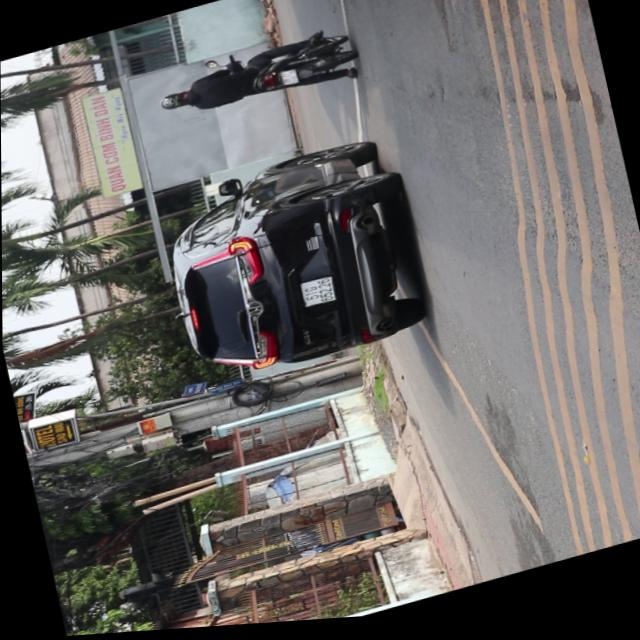helmet: (155, 93, 188, 118)
licenseplate: (148, 28, 359, 136)
nohelmet: (279, 73, 297, 91)
